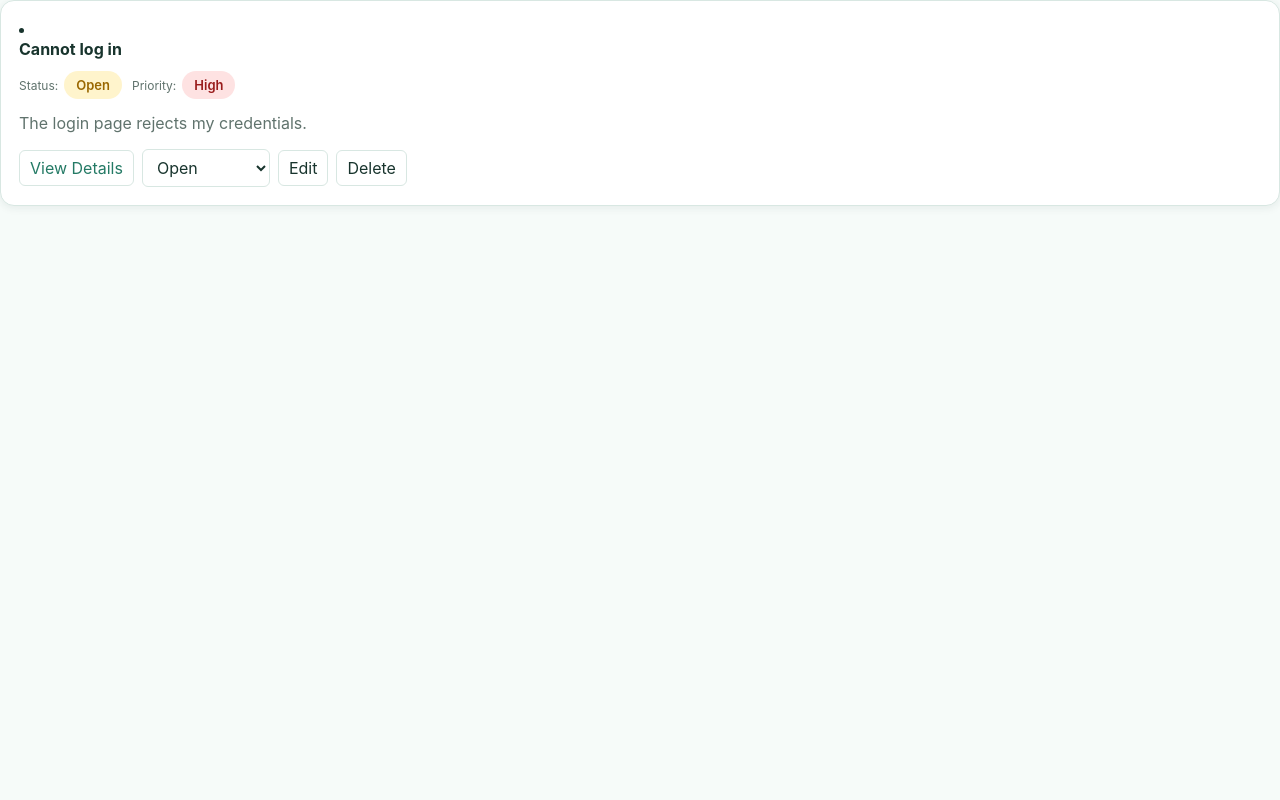
Test: TicketCard › opens the confirmation dialog when Delete is clicked
Click the button "Delete" at (372, 168), box [336, 150, 407, 186]
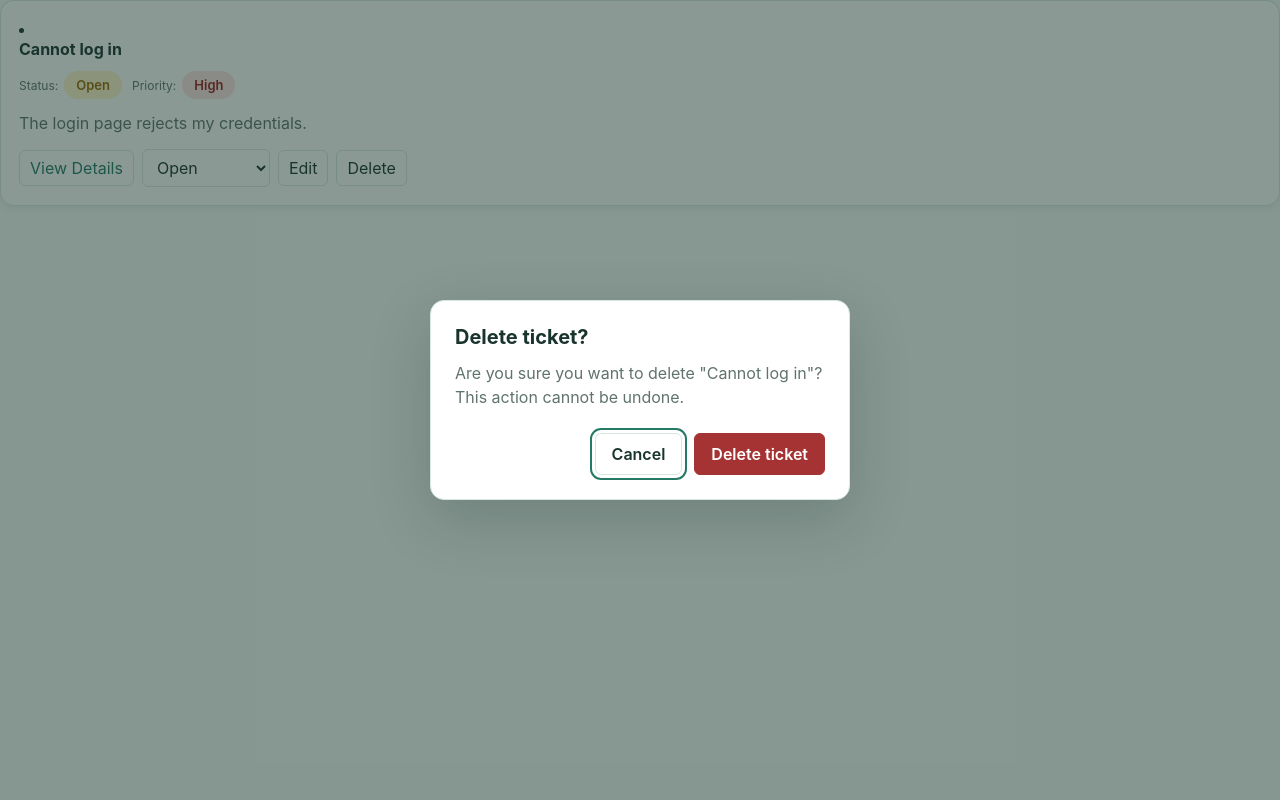
Check: the heading "Delete ticket?" is shown, box [455, 325, 589, 349]
Check: the text "Are you sure you want to delete \"Cannot log in\"? This action cannot be undone." is shown, box [455, 361, 825, 409]
